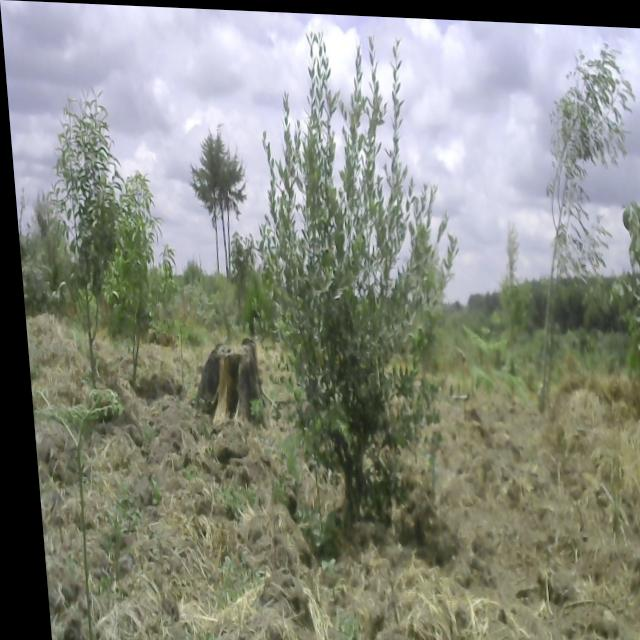Lemon Myrtle: (26, 98, 133, 380), (109, 176, 174, 356)
cedrus: (176, 113, 252, 294)
